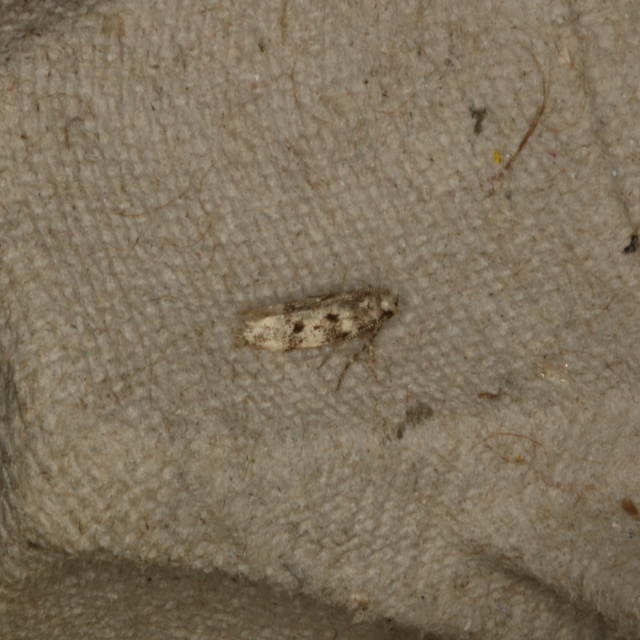Moths and butterflies: (244, 278, 403, 391)
